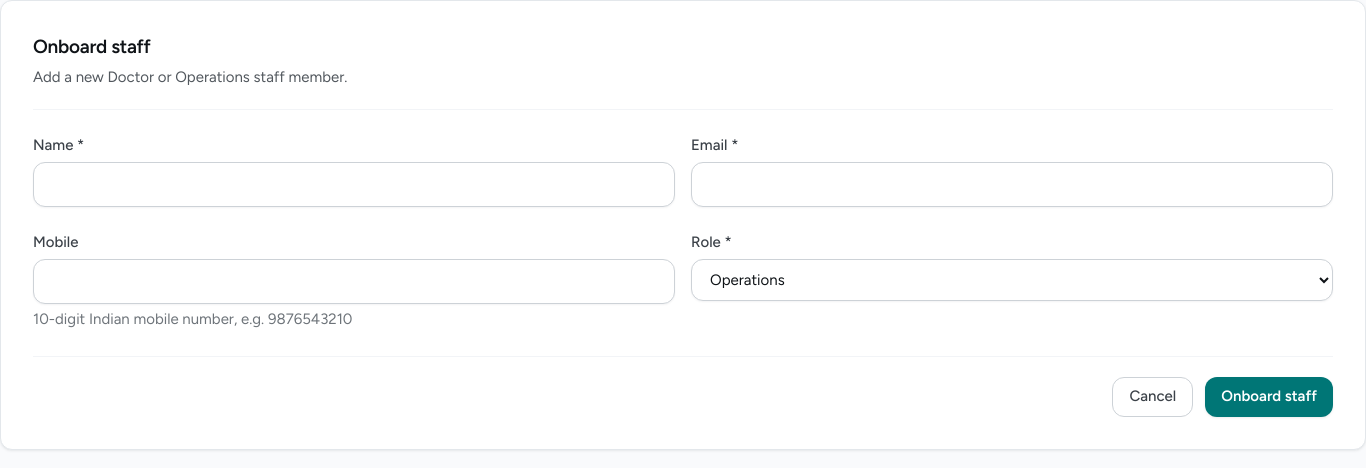
Test case: OnboardStaffForm › shows a server-driven INVALID_MOBILE_NUMBER error at the mobile field, not the banner
The width and height of the screenshot is (1366, 468).
Step 1. Type "Jane Ops" into the field labelled "Name *" → (354, 184), box [33,162,675,207]
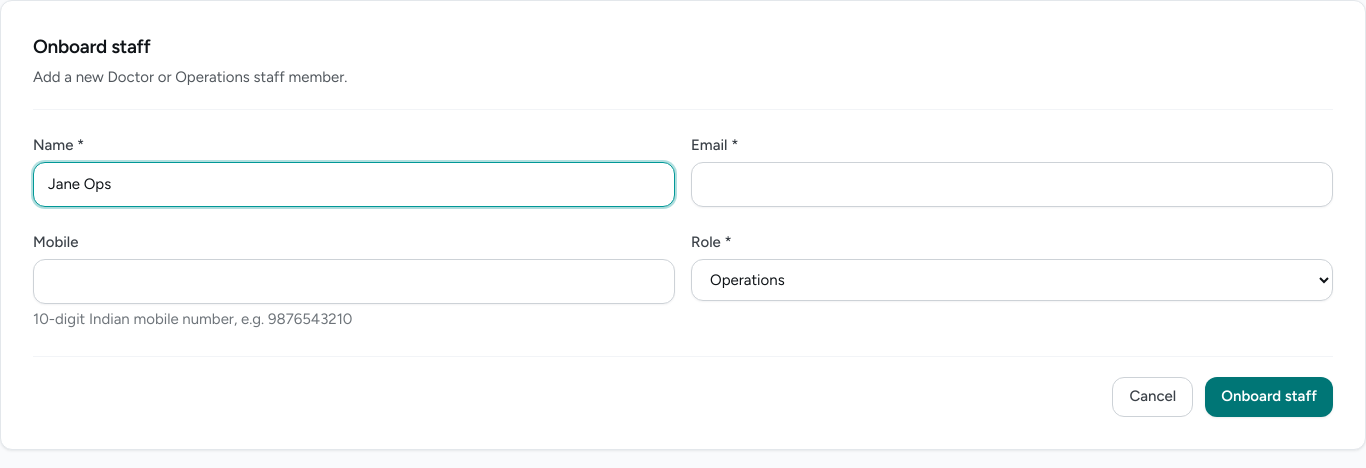
Step 2. Type "ops@clinic.example" into the field labelled "Email *" → (1012, 184), box [691,162,1333,207]
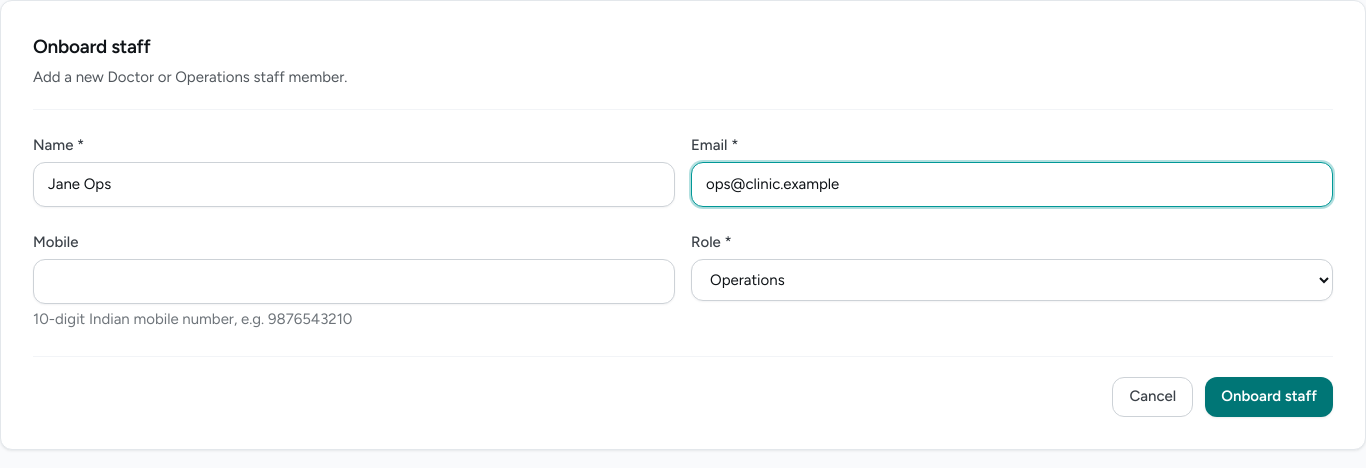
Step 3. Click the button "Onboard staff" → click(1269, 397), box [1205,377,1333,417]
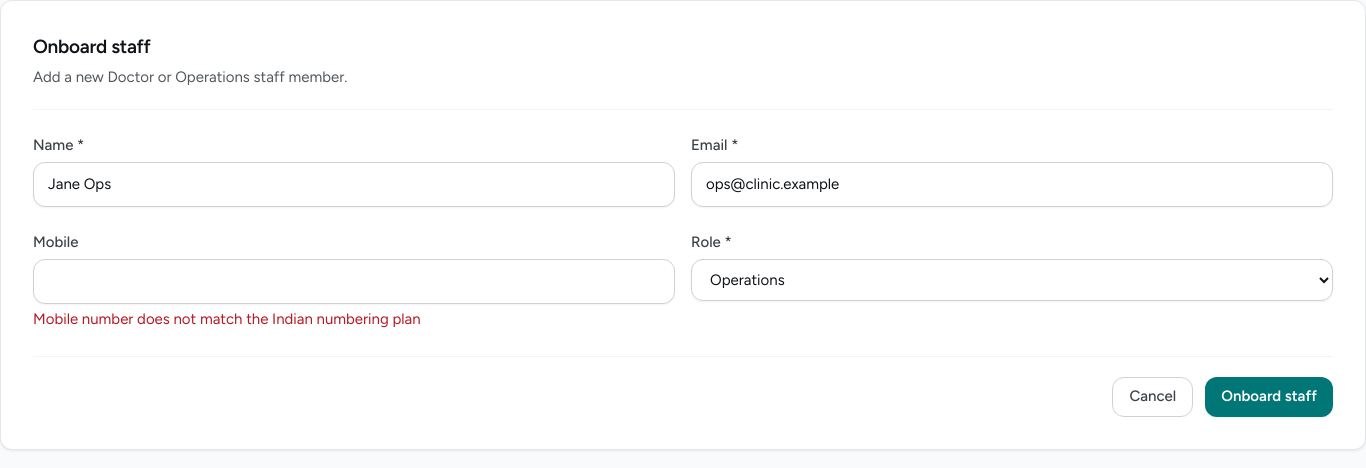
Expected: the message shows "Indian numbering plan", [33,310,421,328]
